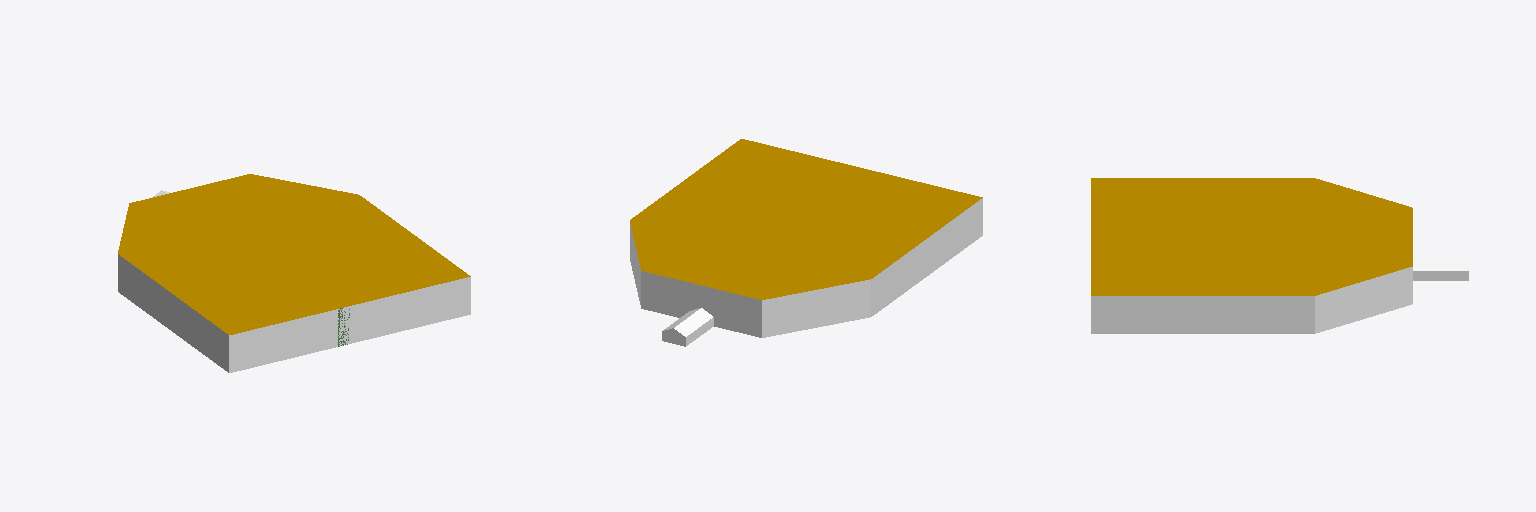
File: Snow Man's land Area 2.obj
3 renders of one model, left to right at view 1: azimuth 30°, elevation 25°; view 2: azimuth 150°, elevation 25°; view 3: azimuth 270°, elevation 25°, orthographic.
Size of the model in its own units: 8190 by 1228 by 11058.